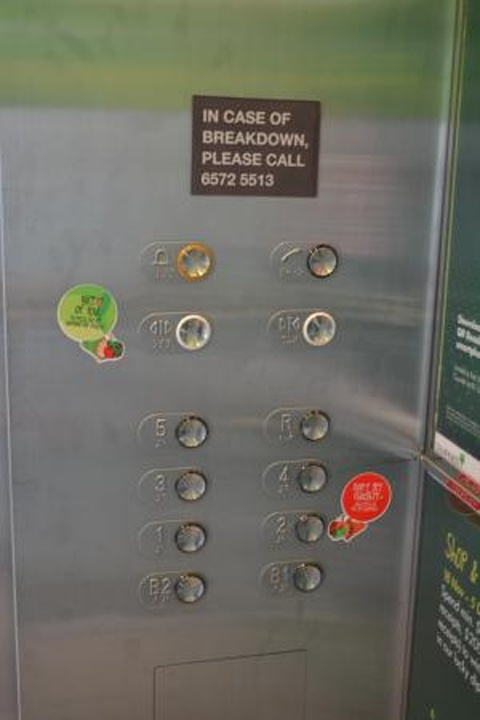1: (135, 517, 214, 561)
2: (257, 510, 332, 550)
3: (136, 461, 214, 508)
4: (258, 457, 332, 505)
5: (140, 404, 214, 452)
B1: (257, 559, 329, 601)
B2: (126, 566, 209, 613)
R: (257, 402, 333, 448)
alarm: (135, 237, 215, 287)
call: (267, 239, 346, 296)
close: (265, 302, 340, 357)
open: (134, 304, 220, 362)
